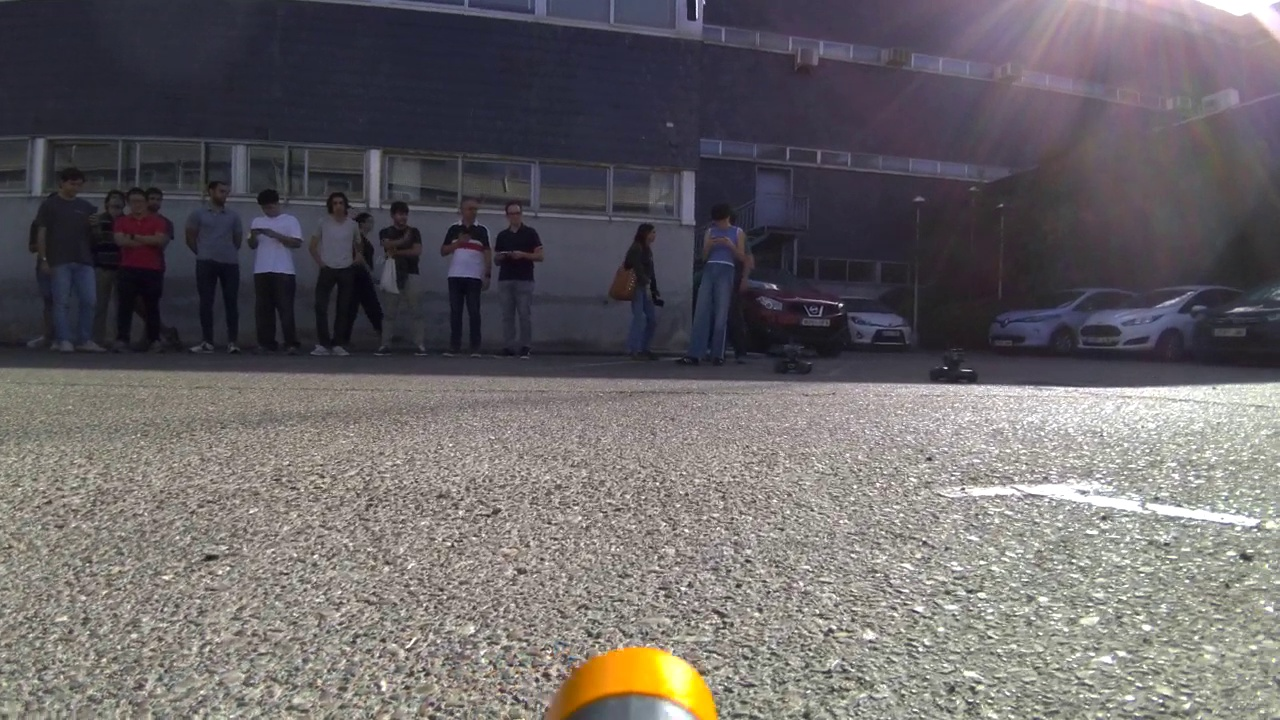robot: (920, 343, 981, 383), (767, 339, 821, 382)
